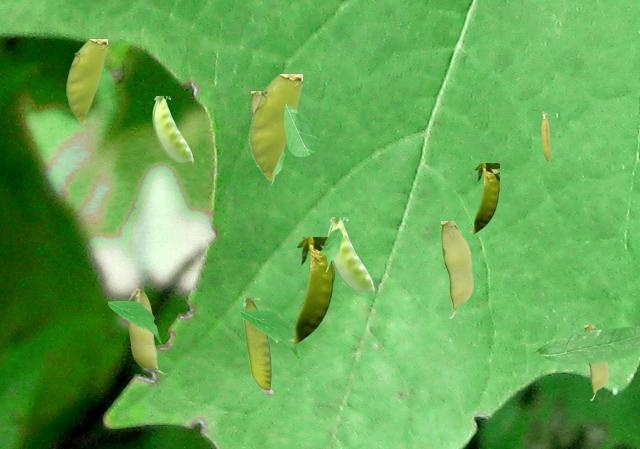pea: (249, 74, 301, 179), (288, 237, 333, 342), (327, 217, 373, 295), (66, 39, 106, 122), (128, 286, 166, 373), (441, 221, 472, 317), (243, 298, 272, 394), (152, 96, 192, 165), (469, 163, 498, 232), (584, 325, 607, 399), (541, 111, 549, 162), (251, 91, 259, 117)
